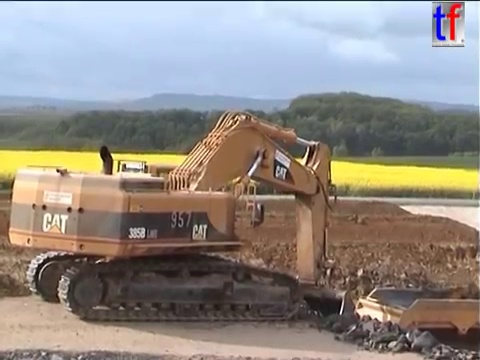excavator: (4, 105, 361, 343)
truck: (353, 282, 480, 360)
